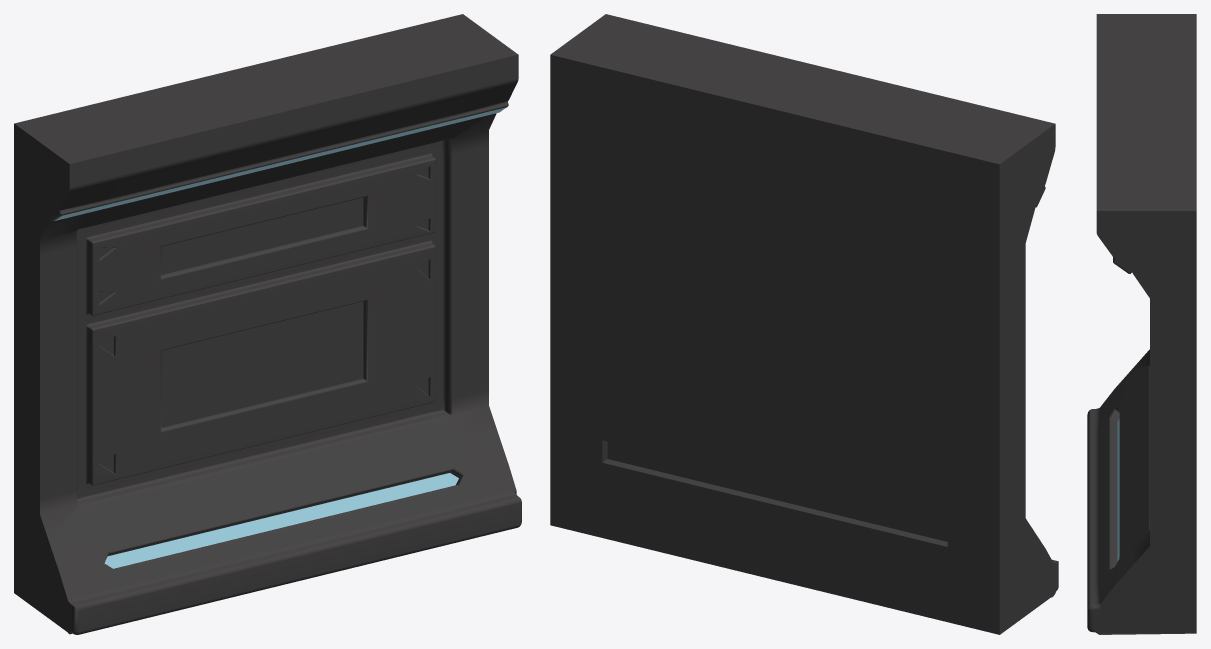
File: wall.fbx
3 renders of one model, left to right at view 1: azimuth 30°, elevation 25°; view 2: azimuth 150°, elevation 25°; view 3: azimuth 270°, elevation 25°, orthographic. The views are drawn at different scales.
Parts seen in each view (by area): view 1: Wall; view 2: Wall; view 3: Wall.
Part boxes in pixels (left/top/right/bottom): Wall: left=14, top=14, right=521, bottom=634; Wall: left=550, top=14, right=1058, bottom=634; Wall: left=1087, top=14, right=1196, bottom=634.
Size of the model in its own units: 10 by 10.04 by 2.34.
